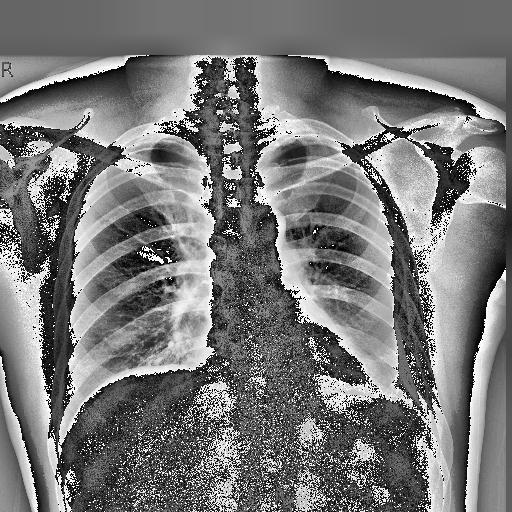0- Aortic enlargement: (244, 206, 287, 239)
11- Pleural thickening: (389, 254, 431, 414), (387, 260, 426, 422), (392, 284, 434, 418), (272, 134, 322, 146)
2- Calcification: (389, 254, 431, 414), (387, 260, 426, 422), (392, 284, 434, 418)
